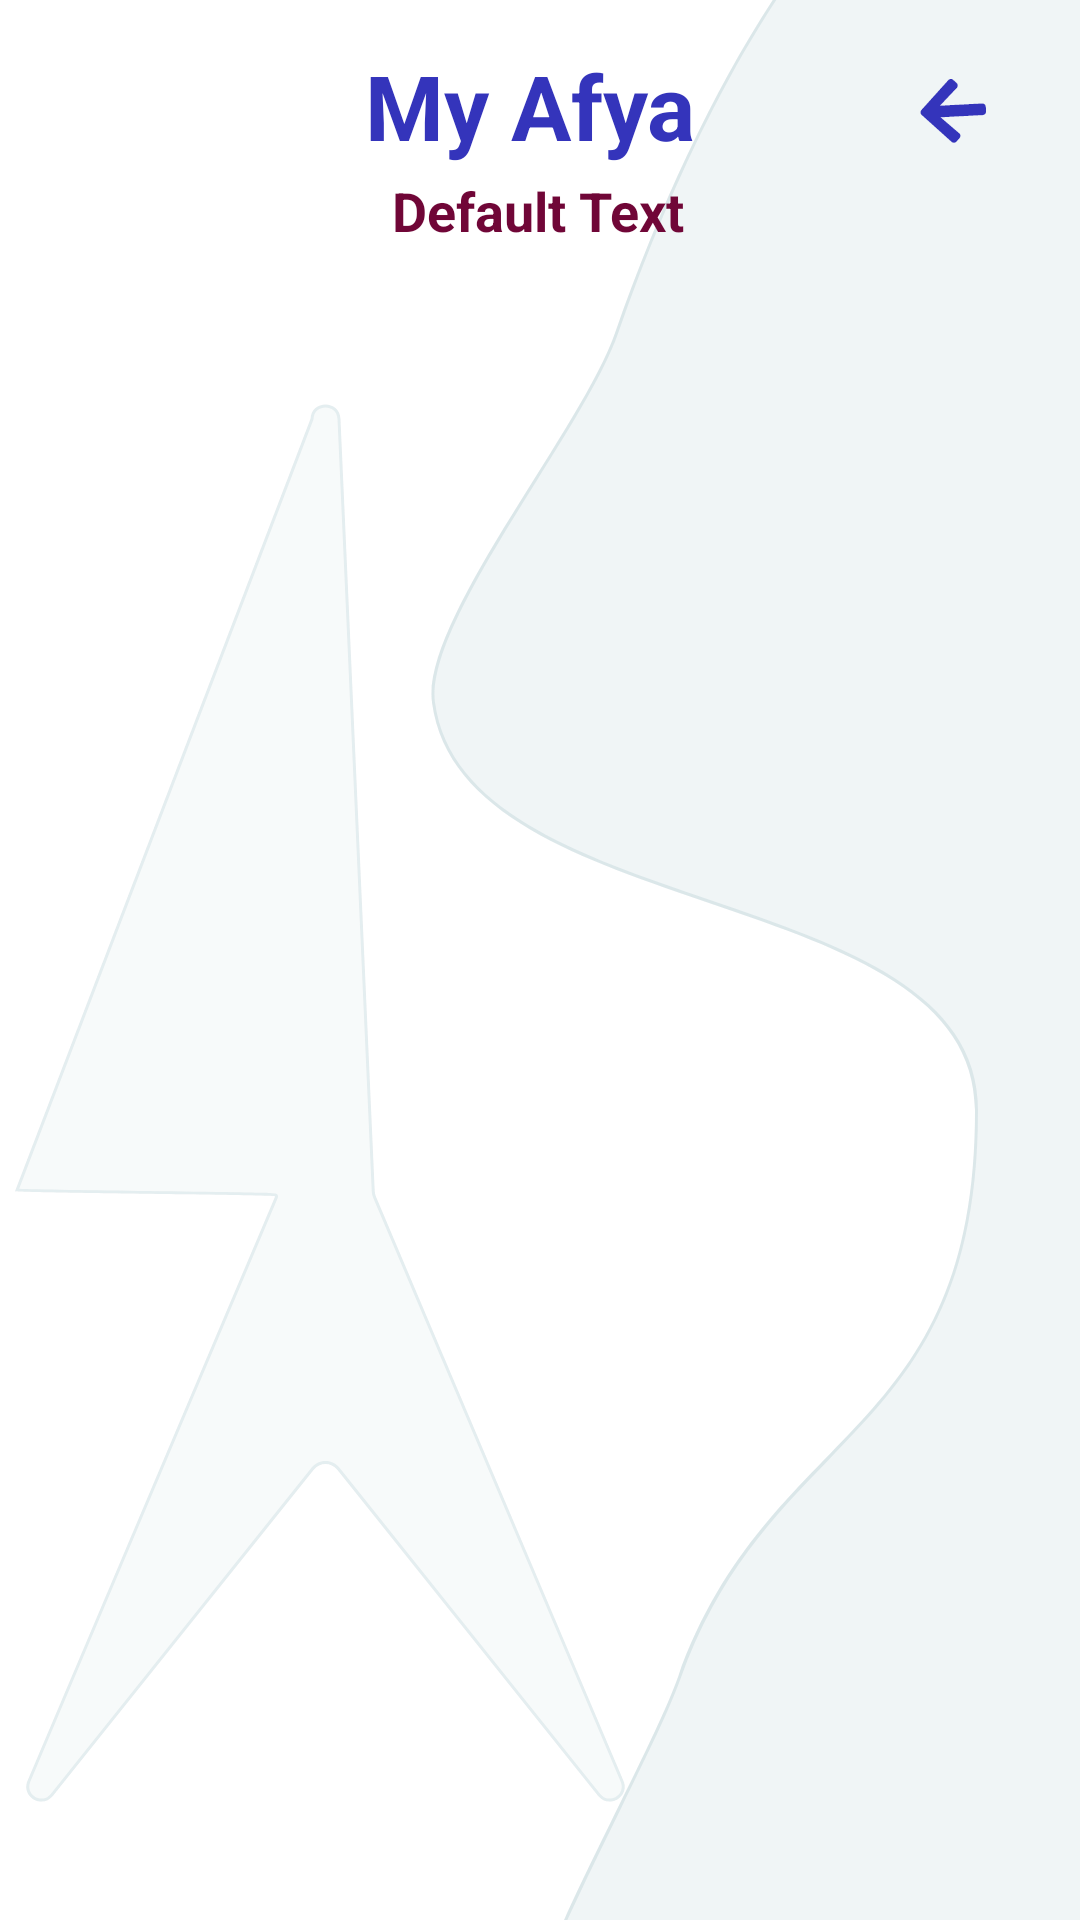

Icon bounding boxes for this 1080 × 1920 phone screenshot, format (x1, y1, x2, y2):
bacck: (920, 79, 986, 143)
